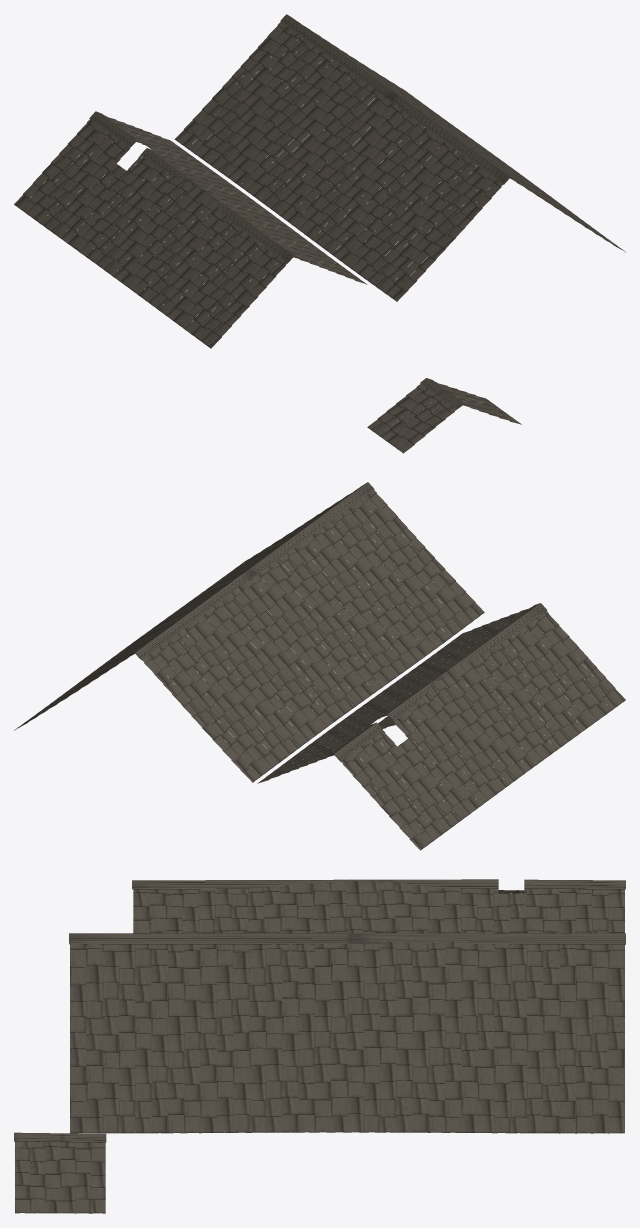
The model's file is BW_Inn01_Shingles.fbx.
3 views of the same model, one above another, from view 1: azimuth 30°, elevation 25°; view 2: azimuth 150°, elevation 25°; view 3: azimuth 270°, elevation 25° (orthographic). The views are drawn at different scales.
Visible parts, largest first — view 1: BW_Inn01_Shingles; view 2: BW_Inn01_Shingles; view 3: BW_Inn01_Shingles.
Part boxes in pixels (x1,y1,x2,y2): BW_Inn01_Shingles: (14, 14, 625, 453); BW_Inn01_Shingles: (14, 482, 625, 850); BW_Inn01_Shingles: (14, 879, 625, 1213).
Bounding box in the file's own units: 10.2 × 5.74 × 11.14.
